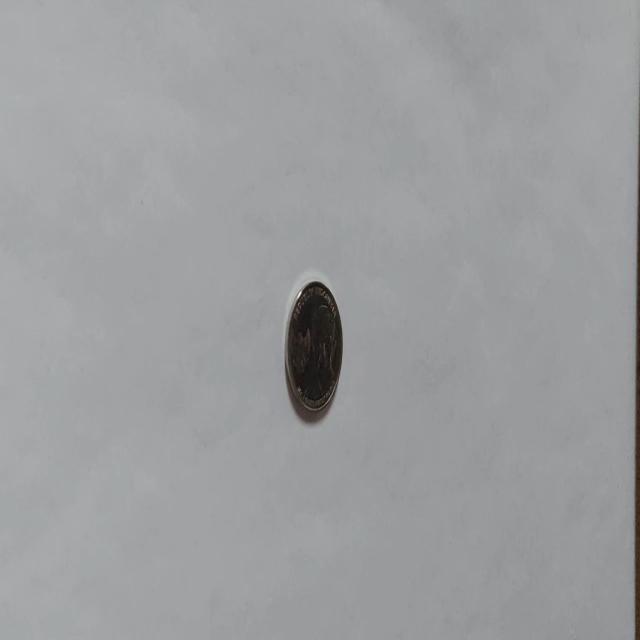seribu rupiah koin: (282, 278, 344, 414)
